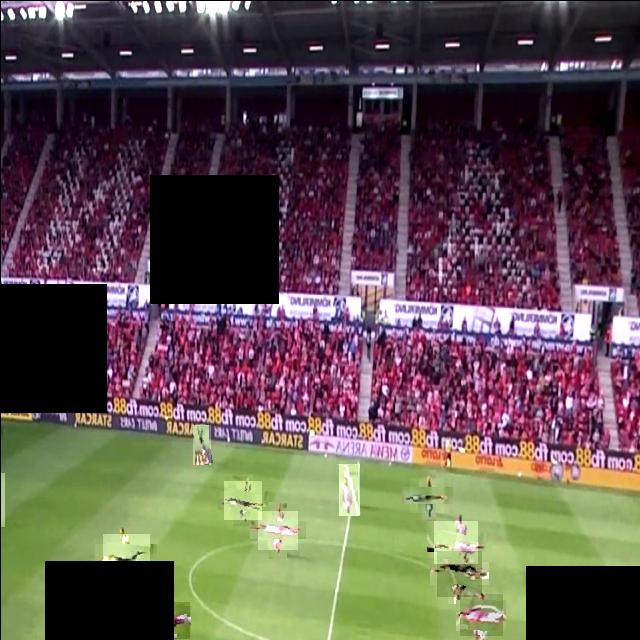referee: (102, 533, 149, 582)
soccer-player: (436, 550, 481, 596), (433, 520, 477, 563), (459, 594, 502, 636), (257, 510, 297, 549), (223, 480, 261, 519), (151, 601, 189, 638), (409, 477, 443, 512), (338, 463, 359, 515), (192, 424, 210, 464), (0, 472, 4, 526)
